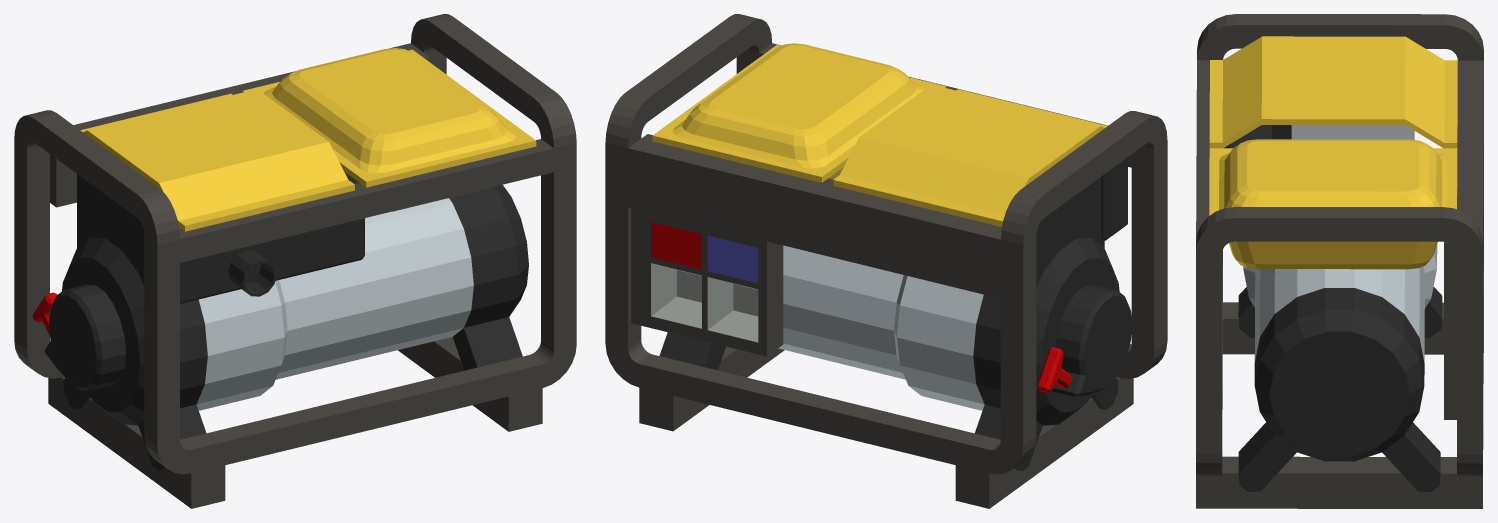
The model's file is YellowMetalMechMediumPowerGeneratorwConnectors1.fbx.
3 views of the same model, side by side, from view 1: azimuth 30°, elevation 25°; view 2: azimuth 150°, elevation 25°; view 3: azimuth 270°, elevation 25° (orthographic).
Parts seen in each view (by area): view 1: YellowMetalMechMediumPowerGeneratorwConnectors1; view 2: YellowMetalMechMediumPowerGeneratorwConnectors1; view 3: YellowMetalMechMediumPowerGeneratorwConnectors1.
Boxes of the visible parts, bbox=[...] form: YellowMetalMechMediumPowerGeneratorwConnectors1: bbox=[14, 14, 576, 508]; YellowMetalMechMediumPowerGeneratorwConnectors1: bbox=[605, 14, 1167, 508]; YellowMetalMechMediumPowerGeneratorwConnectors1: bbox=[1196, 14, 1483, 508].
Bounding box in the file's own units: 382 × 260 × 221.
Materials: 1 (1 with a texture image).
